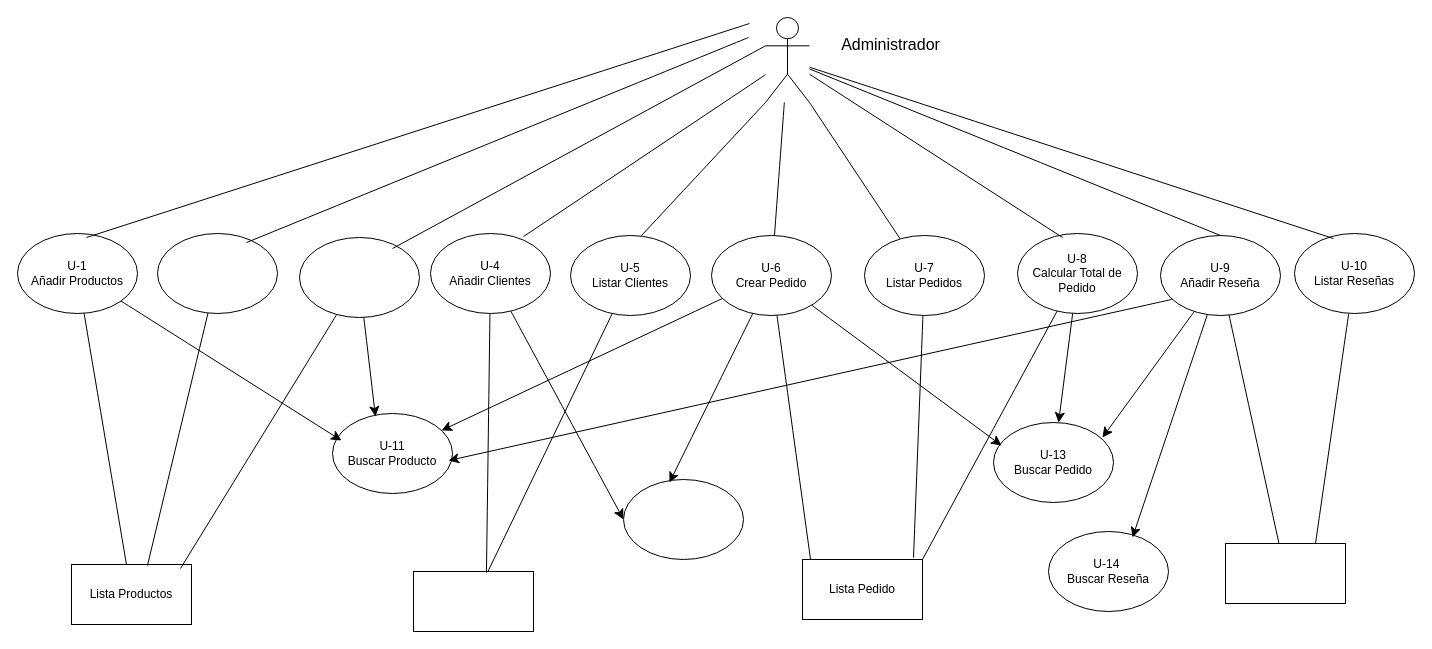
This 1432x649 diagram has some shape labels left out. Each missing label, with the box of its shape:
Actor: (764, 16, 810, 102)
Diccionario Cliente: (412, 570, 534, 632)
Lista Reseña: (1224, 542, 1346, 604)
U-12 Buscar Cliente: (622, 478, 744, 560)
U-2 Listar Productos: (156, 232, 278, 314)
U-3 Cambiar Stock de producto: (298, 236, 420, 318)
